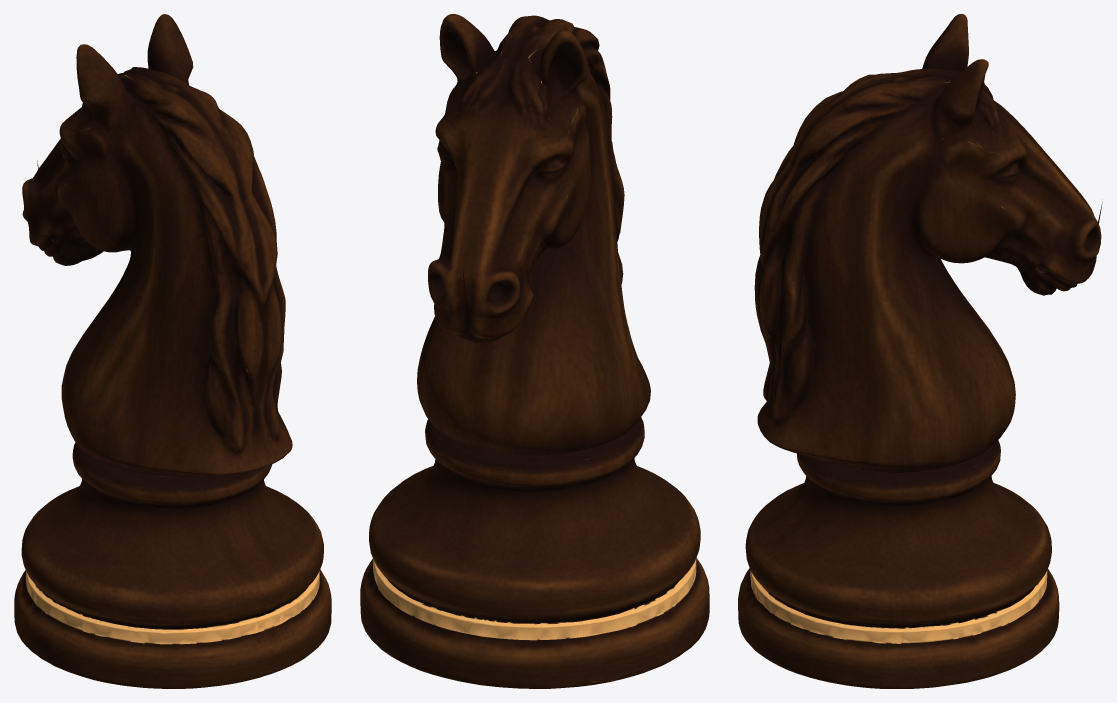
The model's file is knight_dark.glb.
3 renders of one model, left to right at view 1: azimuth 30°, elevation 25°; view 2: azimuth 150°, elevation 25°; view 3: azimuth 270°, elevation 25°, orthographic. The views are drawn at different scales.
Parts seen in each view (by area): view 1: world; view 2: world; view 3: world.
Boxes of the visible parts, <box> form: world: <box>14,14,331,688</box>; world: <box>360,14,709,688</box>; world: <box>738,14,1102,688</box>.
Size of the model in its own units: 0.5071 by 1 by 0.5741.
Materials: 1 (1 with a texture image).
